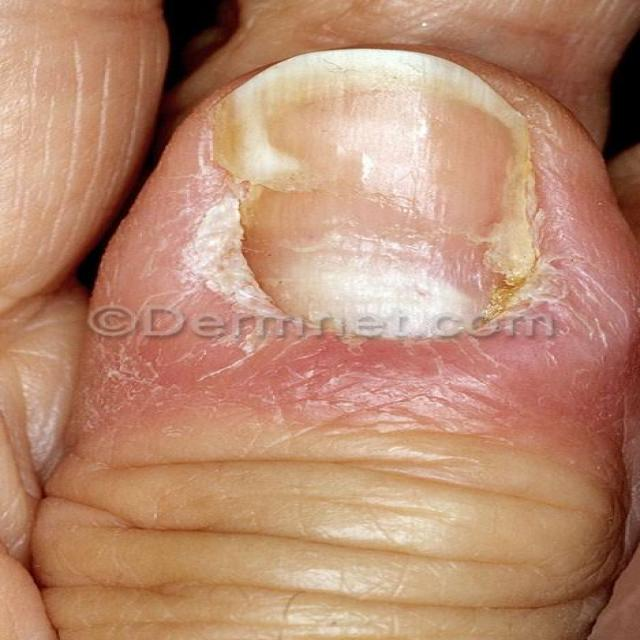Nail: (231, 50, 553, 334)
